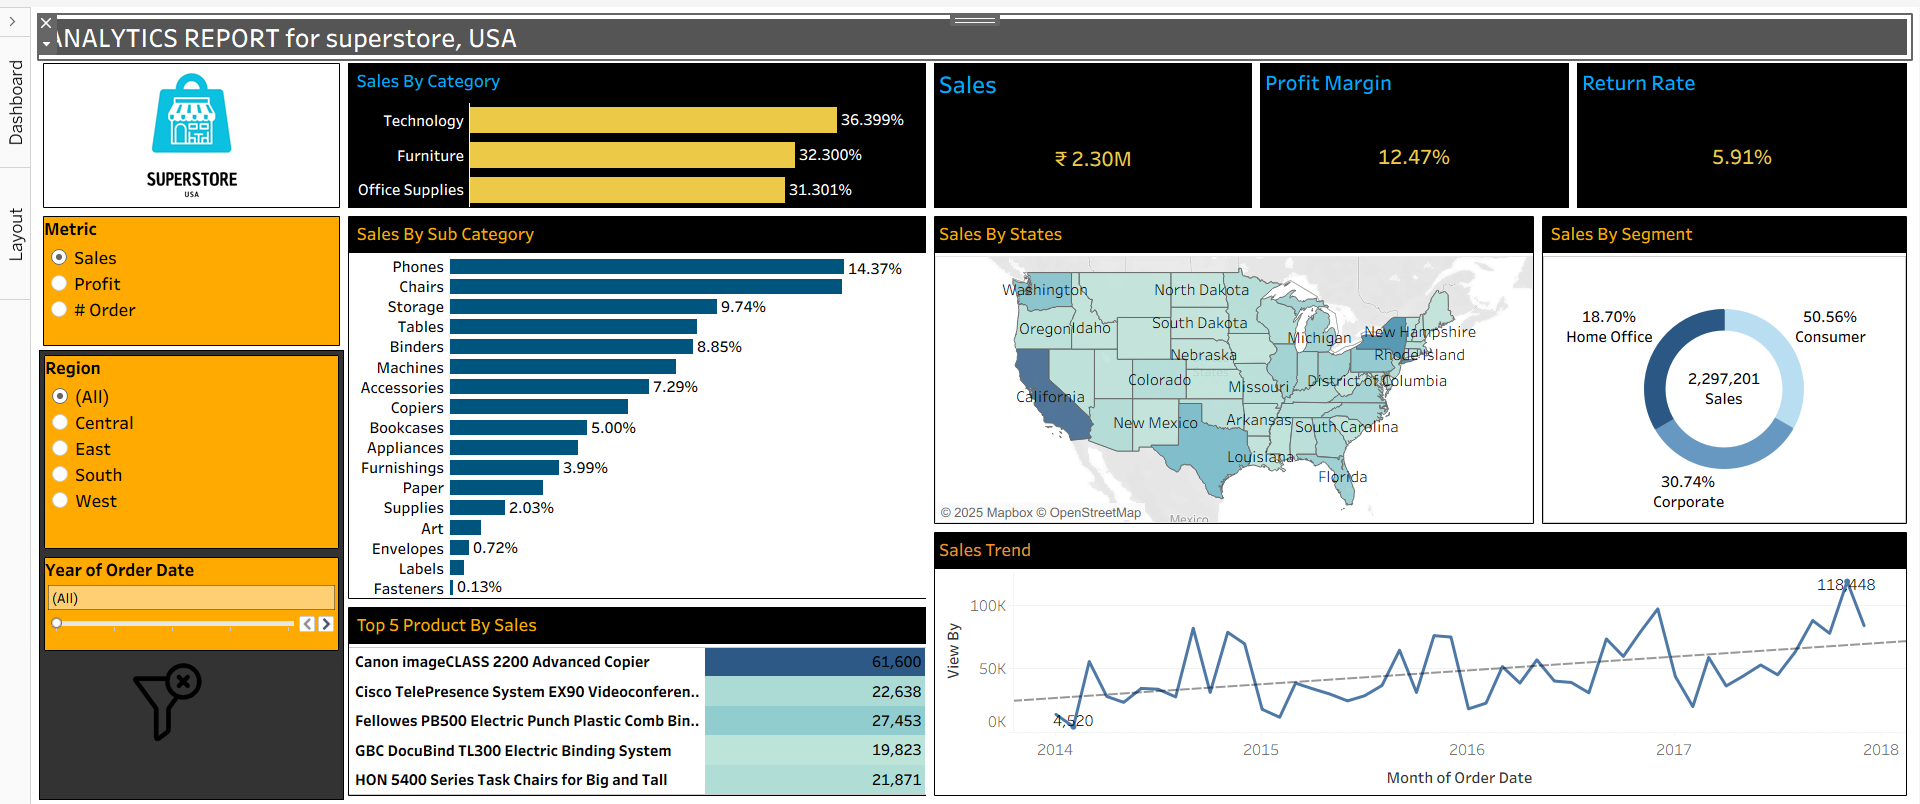

The page's visual inventory and layout, read from the dashboard file:
{"tool":"tableau","page":{"name":"Dashboard 1","canvas":[1000,1000],"units":"permille","ordinal":0},"visuals":[{"type":"text","box":[4.2,10,991.5,54.9]},{"type":"image","param":"Image/SuperStore.jpg","box":[4.2,64.9,161.3,190.9]},{"type":"worksheet","title":"Category","mark":"Automatic","rows":["Category"],"cols":["Calculation_647673979812618240"],"box":[165.5,64.9,310.8,190.9]},{"type":"worksheet","title":"Metric","mark":"Automatic","box":[476.3,64.9,172.5,190.9]},{"type":"worksheet","title":"Profit Margin","mark":"Automatic","box":[648.8,64.9,167.9,190.9]},{"type":"worksheet","title":"Return Rate","mark":"Automatic","box":[816.7,64.9,179.1,190.9]},{"type":"parameter","param":"[Parameters].[Parameter 1]","box":[4.2,255.8,161.3,172.1]},{"type":"worksheet","title":"Sub-Category","mark":"Automatic","rows":["Sub-Category"],"cols":["Calculation_647673979812618240"],"box":[165.5,255.8,310.8,487.9]},{"type":"worksheet","title":"Map","mark":"Multipolygon","box":[476.3,255.8,321.9,394.8]},{"type":"worksheet","title":"Segment","mark":"Pie","rows":["Calculation_647673979830415365","Calculation_647673979830468615"],"box":[798.2,255.8,197.5,394.8]},{"type":"filter","title":"Metric","param":"[federated.070p0ze1q9fau81bldasn0neyura].[none:Region:nk]","box":[4.8,429.1,160.2,252.2]},{"type":"worksheet","title":"Trend","mark":"Automatic","rows":["Calculation_647673979812618240"],"cols":["Order Date"],"box":[476.3,650.6,519.5,339.4]},{"type":"filter","title":"Metric","param":"[federated.070p0ze1q9fau81bldasn0neyura].[yr:Order Date:ok]","box":[4.8,681.3,160.2,127.3]},{"type":"worksheet","title":"Product","mark":"Square","rows":["Product Name"],"box":[165.5,743.7,310.8,246.3]},{"type":"dashboard-object","box":[32.6,819,78.5,97.4]}]}

Visuals, with their boxes on the dashboard's canvas, which has no fixed pixel size, in thousandths of its width and height (x1, y1, x2, y2). These are canvas units, not pixel positions in the 1920x804 screenshot, which may show the page scaled, cropped or inside an application window:
text: bbox=[4, 10, 996, 65]
image: bbox=[4, 65, 166, 256]
"Category" worksheet: bbox=[166, 65, 476, 256]
"Metric" worksheet: bbox=[476, 65, 649, 256]
"Profit Margin" worksheet: bbox=[649, 65, 817, 256]
"Return Rate" worksheet: bbox=[817, 65, 996, 256]
parameter: bbox=[4, 256, 166, 428]
"Sub-Category" worksheet: bbox=[166, 256, 476, 744]
"Map" worksheet (Multipolygon marks): bbox=[476, 256, 798, 651]
"Segment" worksheet (Pie marks): bbox=[798, 256, 996, 651]
"Metric" filter: bbox=[5, 429, 165, 681]
"Trend" worksheet: bbox=[476, 651, 996, 990]
"Metric" filter: bbox=[5, 681, 165, 809]
"Product" worksheet (Square marks): bbox=[166, 744, 476, 990]
dashboard-object: bbox=[33, 819, 111, 916]
